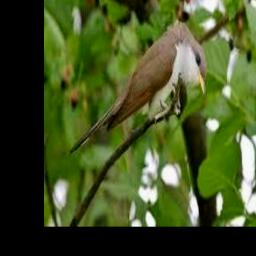Cuckoo: (69, 21, 205, 154)
